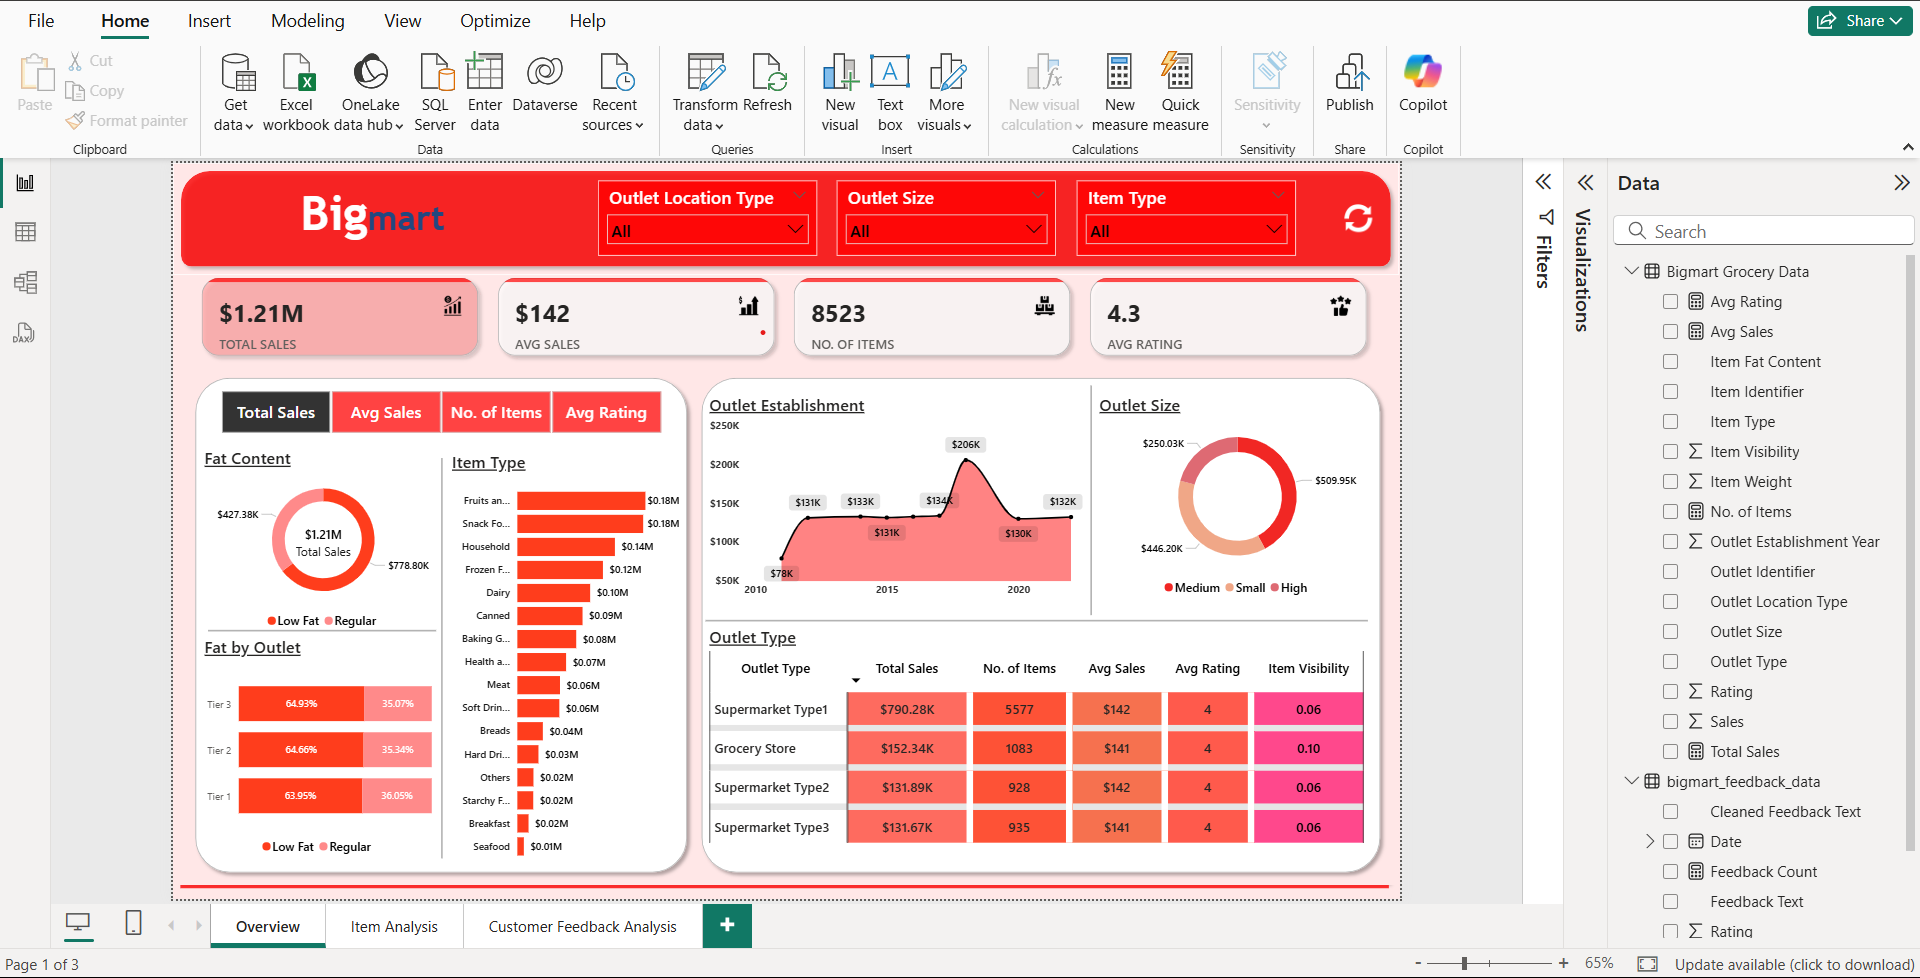

The dashboard page shown, as its layout file describes it:
{"tool":"powerbi","page":{"name":"Overview","canvas":[1500,900],"ordinal":0},"visuals":[{"type":"shape","box":[0,0,1499.4,136.8],"z":0},{"type":"textbox","box":[34.2,21.6,421.2,91.8],"z":1000},{"type":"cardVisual","fields":{"Data":["Zomato Grocery Data.Total Sales","Zomato Grocery Data.Avg Sales","Zomato Grocery Data.No. of Items","Zomato Grocery Data.Avg Rating"]},"box":[18,124.2,1458,129.6],"z":2000},{"type":"shape","box":[18,253.8,619.2,622.8],"z":3000},{"type":"slicer","fields":{"Values":["Metrics.Metrics"]},"box":[34.2,271.8,586.8,64.8],"z":4000},{"type":"cardVisual","fields":{"Data":["Bigmart Grocery Data.Total Sales"]},"box":[124.2,426.6,120.6,75.6],"z":5000},{"type":"hundredPercentStackedBarChart","title":"Fat by Outlet","fields":{"Y":["Bigmart Grocery Data.Total Sales"],"Category":["Zomato Grocery Data.Outlet Location Type"],"Series":["Zomato Grocery Data.Item Fat Content"]},"box":[34.2,572.4,288,298.8],"z":6000},{"type":"shape","box":[322.2,360,12.6,489.6],"z":7000},{"type":"barChart","title":"Item Type","fields":{"Y":["Bigmart Grocery Data.Total Sales"],"Category":["Zomato Grocery Data.Item Type"]},"box":[336,352,288,512],"z":8000},{"type":"shape","box":[637.2,253.8,847.8,622.8],"z":9000},{"type":"lineChart","title":"Outlet Establishment ","fields":{"Y":["Zomato Grocery Data.Total Sales"],"Category":["Zomato Grocery Data.Outlet Establishment Year"]},"box":[651.6,280.8,466.2,259.2],"z":10000},{"type":"shape","box":[651.6,552.6,810,12.6],"z":11000},{"type":"pieChart","title":"Outlet Size","fields":{"Y":["Zomato Grocery Data.Total Sales"],"Category":["Zomato Grocery Data.Outlet Size"]},"box":[1128.6,280.8,347.4,257.4],"z":12000},{"type":"shape","box":[1117.8,271.8,10.8,280.8],"z":13000},{"type":"pivotTable","title":"Outlet Type","fields":{"Rows":["Zomato Grocery Data.Outlet Type"],"Values":["Zomato Grocery Data.Total Sales","Zomato Grocery Data.No. of Items","Zomato Grocery Data.Avg Sales","Zomato Grocery Data.Avg Rating","Avg(Zomato Grocery Data.Item Visibility)"]},"box":[651.6,565.2,810,284.4],"z":14000},{"type":"slicer","fields":{"Values":["Zomato Grocery Data.Item Type"]},"box":[1105.2,21.6,268.2,91.8],"z":15000},{"type":"slicer","fields":{"Values":["Zomato Grocery Data.Outlet Location Type"]},"box":[520.2,21.6,268.2,91.8],"z":16000},{"type":"slicer","fields":{"Values":["Zomato Grocery Data.Outlet Size"]},"box":[811.8,21.6,268,91.8],"z":17000},{"type":"shape","box":[0,876.6,1495.8,16.2],"z":18000},{"type":"image","box":[1423.8,45,52.2,46.8],"z":19000},{"type":"shape","box":[43.2,565.2,279,12.6],"z":20000},{"type":"pieChart","title":"Fat Content","fields":{"Y":["Bigmart Grocery Data.Total Sales"],"Category":["Bigmart Grocery Data.Item Fat Content"]},"box":[34.2,347.4,300.6,232.2],"z":21000}]}

Visuals, with their boxes on the page's 1500x900 design canvas (x1, y1, x2, y2). These are canvas units, not pixel positions in the 1920x978 screenshot, which may show the page scaled, cropped or inside an application window:
shape: [left=0, top=0, right=1499, bottom=137]
textbox: [left=34, top=22, right=455, bottom=113]
cardVisual - Zomato Grocery Data.Total Sales x Zomato Grocery Data.Avg Sales: [left=18, top=124, right=1476, bottom=254]
shape: [left=18, top=254, right=637, bottom=877]
slicer - Metrics.Metrics: [left=34, top=272, right=621, bottom=337]
cardVisual - Bigmart Grocery Data.Total Sales: [left=124, top=427, right=245, bottom=502]
"Fat by Outlet" hundredPercentStackedBarChart: [left=34, top=572, right=322, bottom=871]
shape: [left=322, top=360, right=335, bottom=850]
"Item Type" barChart: [left=336, top=352, right=624, bottom=864]
shape: [left=637, top=254, right=1485, bottom=877]
"Outlet Establishment " lineChart: [left=652, top=281, right=1118, bottom=540]
shape: [left=652, top=553, right=1462, bottom=565]
"Outlet Size" pieChart: [left=1129, top=281, right=1476, bottom=538]
shape: [left=1118, top=272, right=1129, bottom=553]
"Outlet Type" pivotTable: [left=652, top=565, right=1462, bottom=850]
slicer - Zomato Grocery Data.Item Type: [left=1105, top=22, right=1373, bottom=113]
slicer - Zomato Grocery Data.Outlet Location Type: [left=520, top=22, right=788, bottom=113]
slicer - Zomato Grocery Data.Outlet Size: [left=812, top=22, right=1080, bottom=113]
shape: [left=0, top=877, right=1496, bottom=893]
image: [left=1424, top=45, right=1476, bottom=92]
shape: [left=43, top=565, right=322, bottom=578]
"Fat Content" pieChart: [left=34, top=347, right=335, bottom=580]
